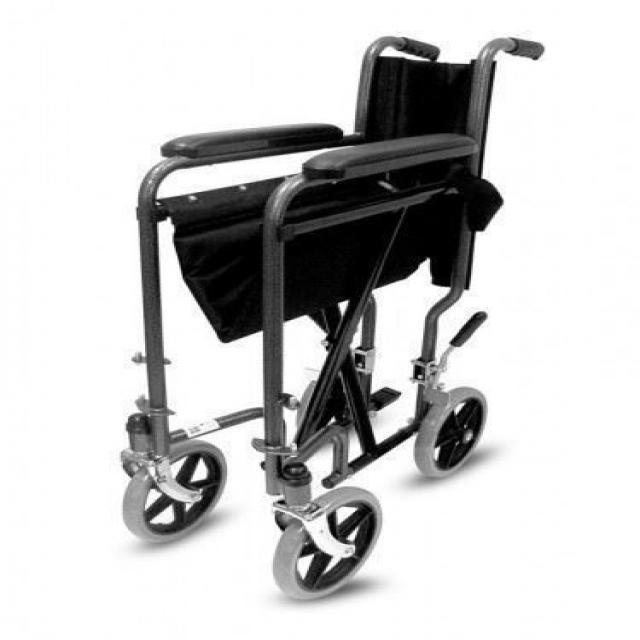wheelchair: (100, 31, 570, 614)
